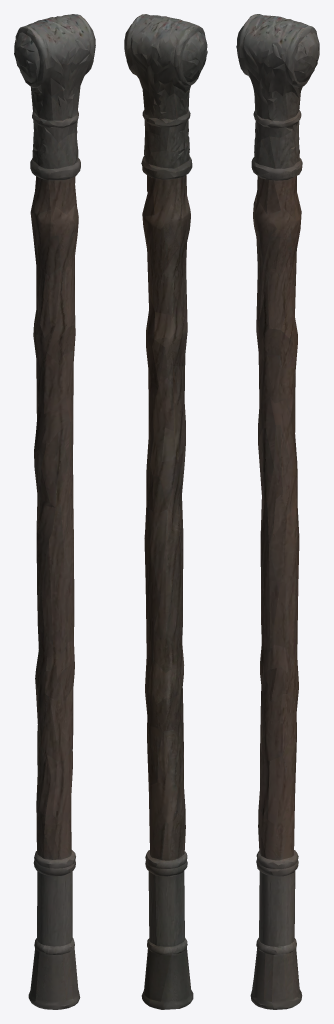
Rendered from cane-C1pvcGfA.glb.
3 views of the same model, side by side, from view 1: azimuth 30°, elevation 25°; view 2: azimuth 150°, elevation 25°; view 3: azimuth 330°, elevation 25° (orthographic).
Visible parts, largest first — view 1: cane; view 2: cane; view 3: cane.
Part boxes in pixels (x1,y1,x2,y2): cane: (14, 14, 95, 1009); cane: (124, 14, 207, 1009); cane: (236, 14, 319, 1009).
Bounding box in the file's own units: 0.0777 × 1 × 0.0591.
Materials: 1 (1 with a texture image).
